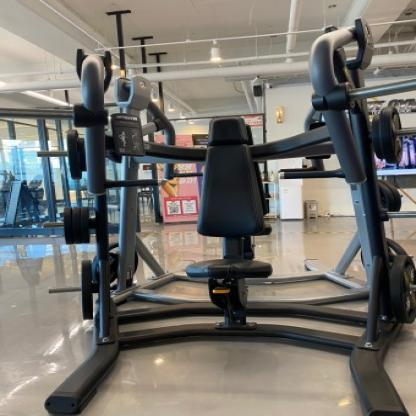Chest Press machine: (6, 6, 416, 416)
